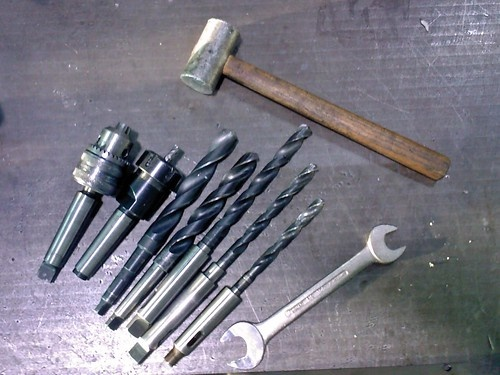hammer: (179, 16, 449, 181)
